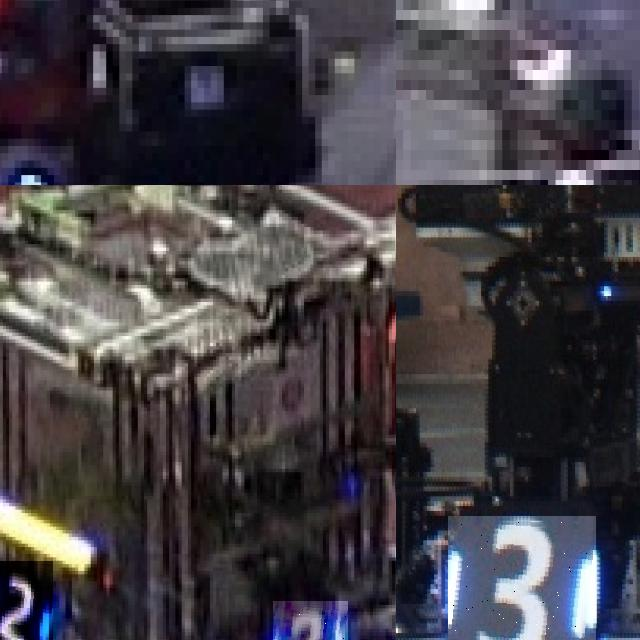B2: (0, 560, 53, 640), (272, 601, 348, 640)
B3: (448, 516, 596, 640)
